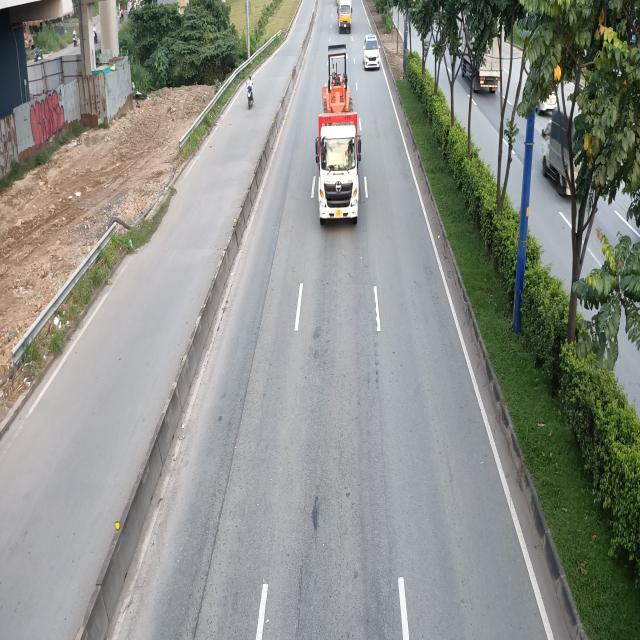car: (362, 33, 380, 68)
truck: (316, 112, 363, 223), (338, 0, 354, 32)
